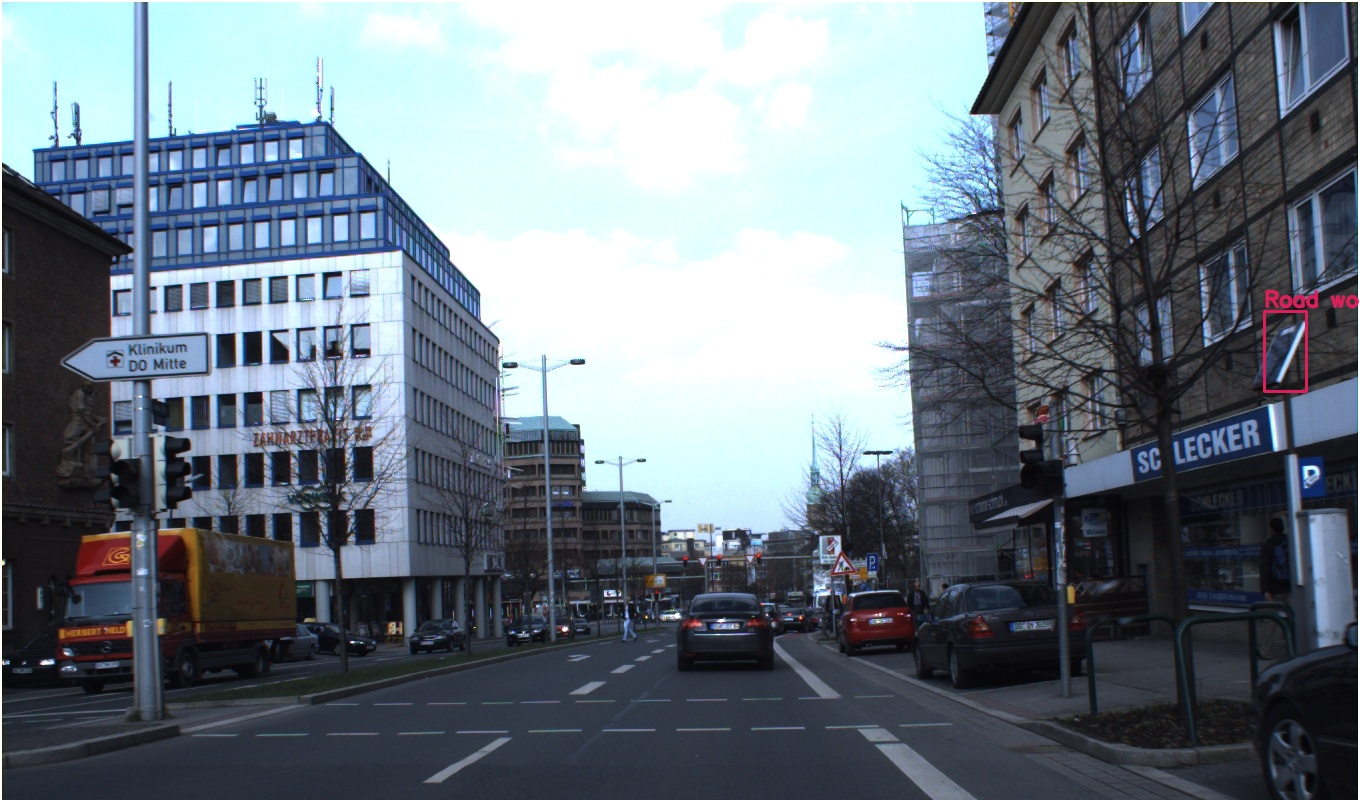Right-of-way at the next intersection: (816, 401, 857, 437)
